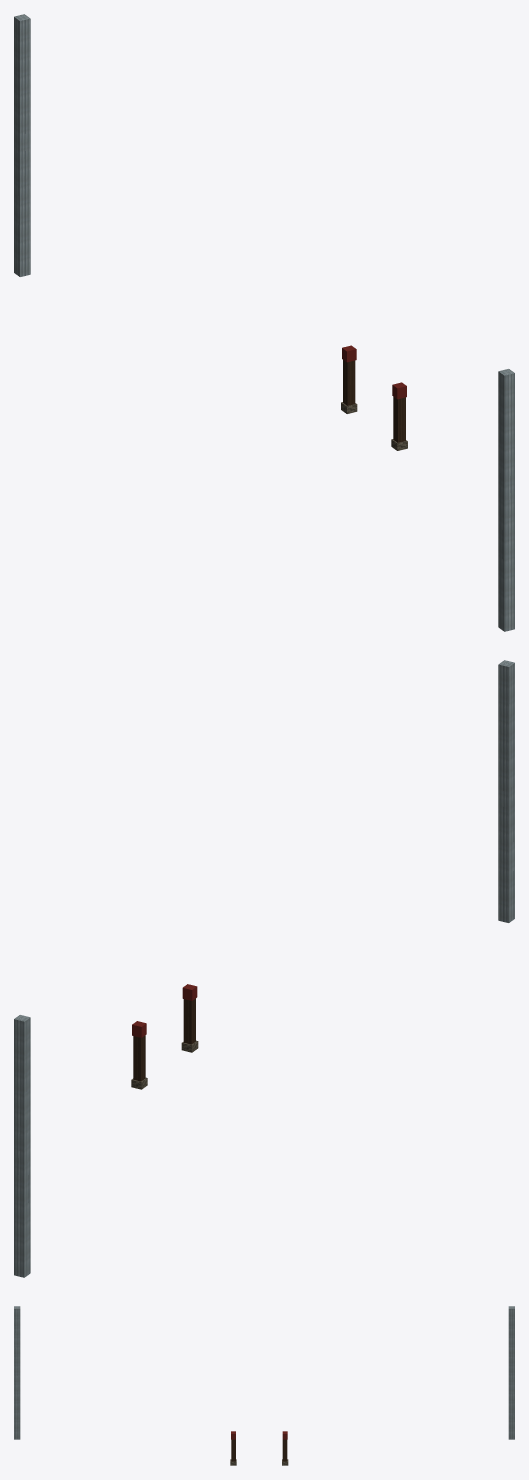
File: vault_pass_posts_01.glb
3 renders of one model, top to bottom at view 1: azimuth 30°, elevation 25°; view 2: azimuth 150°, elevation 25°; view 3: azimuth 270°, elevation 25°, orthographic. The views are drawn at different scales.
Visible parts, largest first — view 1: vault_pass_posts_01; view 2: vault_pass_posts_01; view 3: vault_pass_posts_01.
Part boxes in pixels (x1,y1,x2,y2): vault_pass_posts_01: (14, 14, 514, 631); vault_pass_posts_01: (14, 660, 514, 1277); vault_pass_posts_01: (14, 1306, 514, 1465).
Bounding box in the file's own units: 6.6 × 14 × 48.6.
4 materials, 4 textured.
